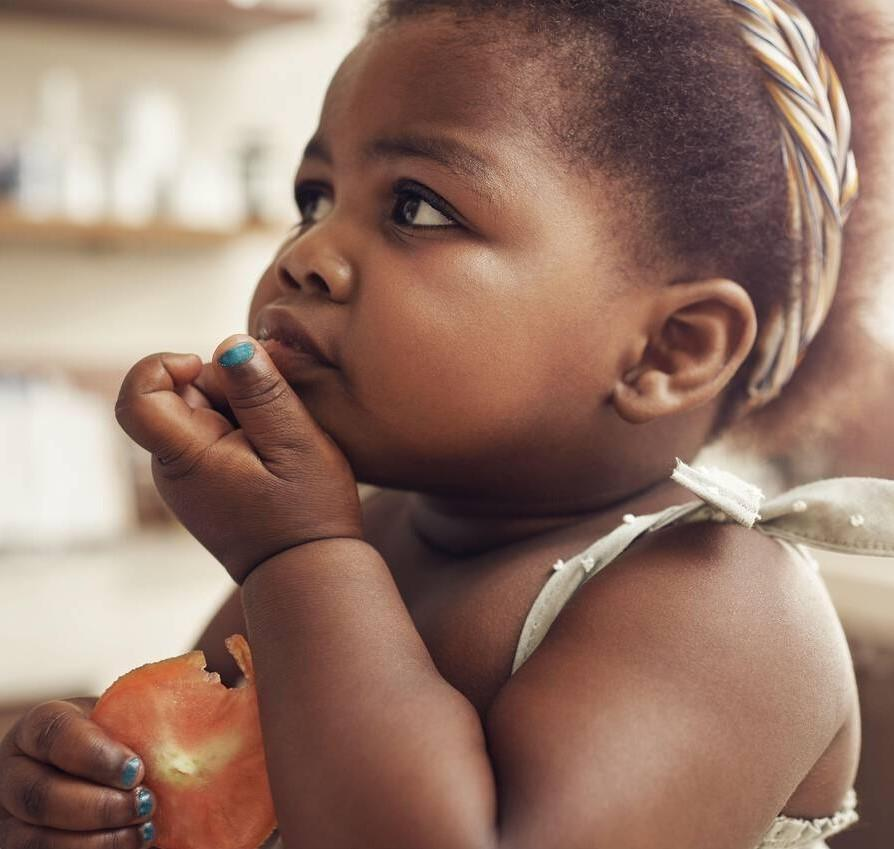Healthy: (203, 0, 833, 552)
